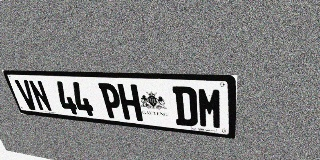4: (53, 81, 79, 115), (69, 82, 95, 116)
D: (172, 86, 198, 127)
H: (117, 84, 143, 121)
M: (197, 87, 223, 130)
N: (28, 80, 53, 112)
P: (98, 83, 124, 119)
V: (14, 79, 39, 110)
